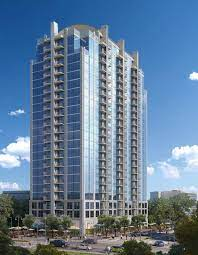Sky Building: (28, 19, 150, 223)
